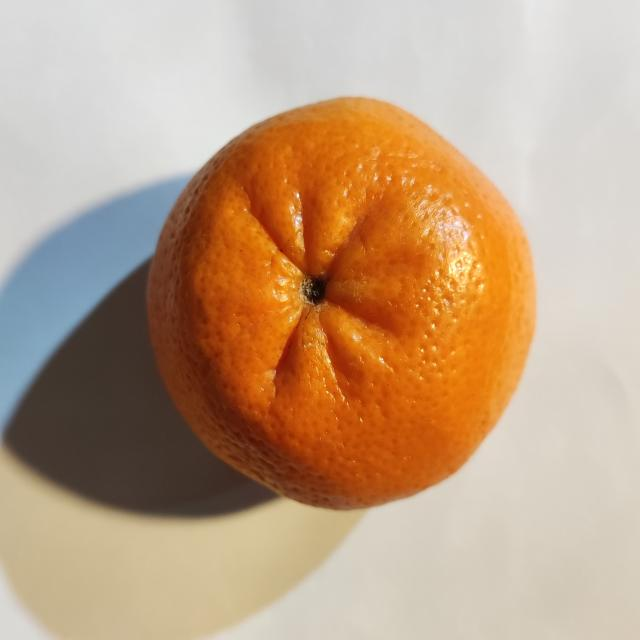orange: (148, 99, 535, 508)
